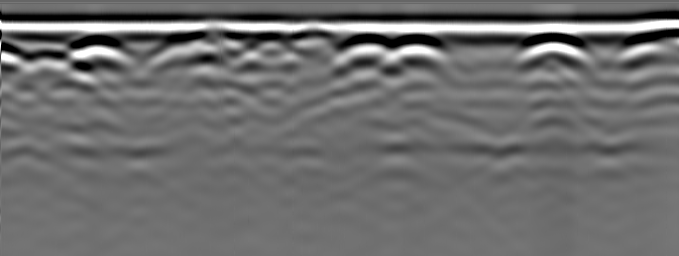pipe: (288, 26, 337, 43), (194, 24, 236, 43)
steel: (340, 35, 447, 70), (517, 36, 590, 69), (70, 35, 125, 72), (625, 34, 679, 71), (159, 51, 221, 72)
